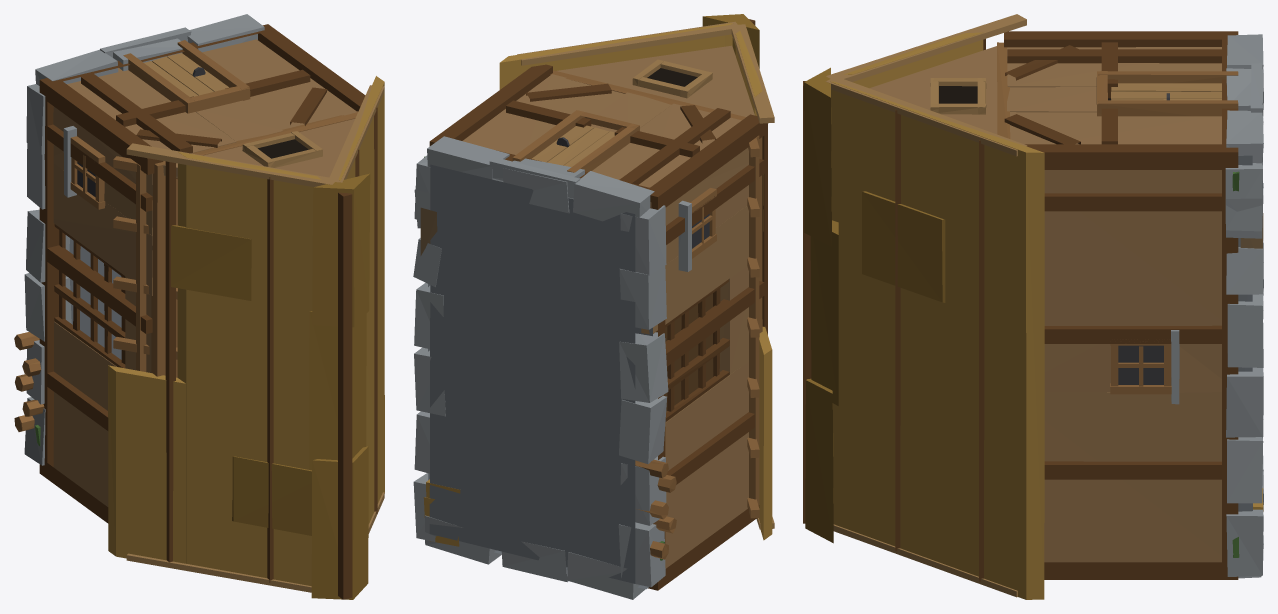
File: starter_house_model.obj
The picture shows the model from 3 angles, left to right: view 1: azimuth 30°, elevation 25°; view 2: azimuth 150°, elevation 25°; view 3: azimuth 270°, elevation 25°; orthographic projection. The views are drawn at different scales.
Visible parts, largest first — view 1: sh_roof_back_up, sh_roof_back_low, sh_roof_front, sh_wall_xm1_a, sh_ridge_cap_2, sh_ridge_cap_0, sh_ridge_pole, sh_ridge_cap_1, sh_roof_patch_0, sh_roof_patch_2, sh_wall_y1_b, sh_wall_xm1_b (+48 smaller); view 2: sh_plinth_core, sh_wall_xm1_a, sh_gable_1, sh_wall_xm1_b, sh_wall_y1_b, sh_roof_front, sh_frame_post_-11, sh_wall_y1_a, sh_plinth_bx-1_3, sh_frame_plate_top, sh_plinth_by1_0, sh_roof_back_low (+47 smaller); view 3: sh_roof_front, sh_wall_x1_a, sh_wall_x1_b, sh_roof_patch_1, sh_wall_y1_b, sh_frame_post_11, sh_ridge_cap_2, sh_ridge_cap_0, sh_ridge_cap_1, sh_gable_1, sh_frame_post_-11, sh_frame_stud_x1_-72 (+39 smaller).
Boxes of the visible parts, box(x1,y1,x2,y2) form: sh_roof_back_up: box(177, 152, 321, 585); sh_roof_back_low: box(108, 365, 185, 563); sh_roof_front: box(338, 76, 384, 523); sh_wall_xm1_a: box(53, 321, 116, 506); sh_ridge_cap_2: box(312, 173, 370, 327); sh_ridge_cap_0: box(311, 446, 368, 599); sh_ridge_pole: box(338, 192, 352, 599); sh_ridge_cap_1: box(309, 311, 366, 469); sh_roof_patch_0: box(232, 456, 311, 535); sh_roof_patch_2: box(171, 225, 251, 300); sh_wall_y1_b: box(202, 39, 357, 129); sh_wall_xm1_b: box(53, 164, 152, 295); sh_plinth_core: box(429, 164, 635, 583); sh_wall_xm1_a: box(665, 362, 748, 568); sh_gable_1: box(557, 45, 754, 116); sh_wall_xm1_b: box(641, 206, 748, 334); sh_wall_y1_b: box(462, 74, 624, 154); sh_roof_front: box(499, 23, 732, 89); sh_frame_post_-11: box(650, 114, 765, 209); sh_wall_y1_a: box(592, 103, 741, 187); sh_plinth_bx-1_3: box(619, 332, 668, 402); sh_frame_plate_top: box(550, 70, 762, 411); sh_plinth_by1_0: box(573, 171, 654, 221); sh_roof_back_low: box(759, 326, 772, 540); sh_roof_front: box(830, 81, 1044, 599); sh_wall_x1_a: box(1044, 392, 1221, 562); sh_wall_x1_b: box(1044, 170, 1221, 325); sh_roof_patch_1: box(862, 191, 945, 302); sh_wall_y1_b: box(1010, 112, 1221, 144); sh_frame_post_11: box(1025, 144, 1238, 169); sh_ridge_cap_2: box(804, 67, 831, 246); sh_ridge_cap_0: box(805, 378, 833, 543); sh_ridge_cap_1: box(810, 220, 838, 405); sh_gable_1: box(869, 46, 997, 134); sh_frame_post_-11: box(1004, 31, 1238, 47); sh_frame_stud_x1_-72: box(1044, 461, 1221, 479).
Size of the model in its own units: 2.05 by 3.03 by 2.83.
